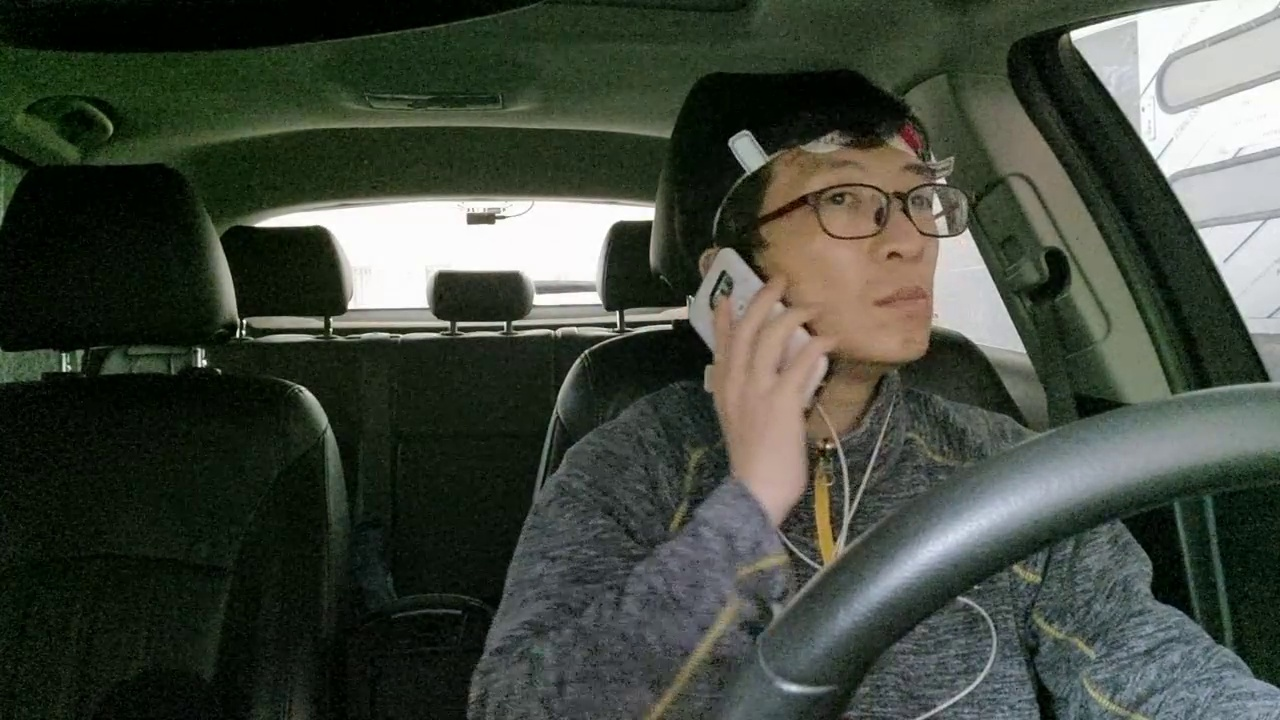phone: (672, 223, 852, 442)
